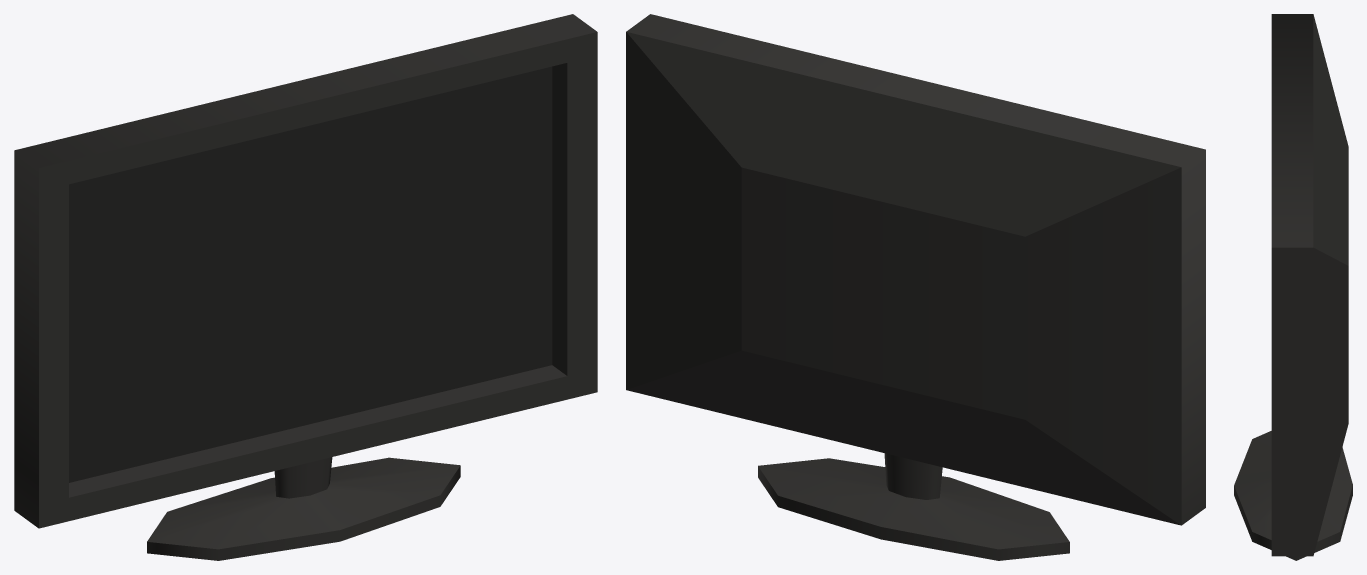
Rendered from 04_prop_tv.FBX.
The picture shows the model from 3 angles, left to right: view 1: azimuth 30°, elevation 25°; view 2: azimuth 150°, elevation 25°; view 3: azimuth 270°, elevation 25°; orthographic projection. The views are drawn at different scales.
Visible parts, largest first — view 1: prop_tv; view 2: prop_tv; view 3: prop_tv.
Boxes of the visible parts, bbox=[...] form: prop_tv: bbox=[14, 14, 597, 560]; prop_tv: bbox=[626, 14, 1205, 560]; prop_tv: bbox=[1234, 14, 1352, 560].
Bounding box in the file's own units: 63.52 × 46.24 × 13.67.
